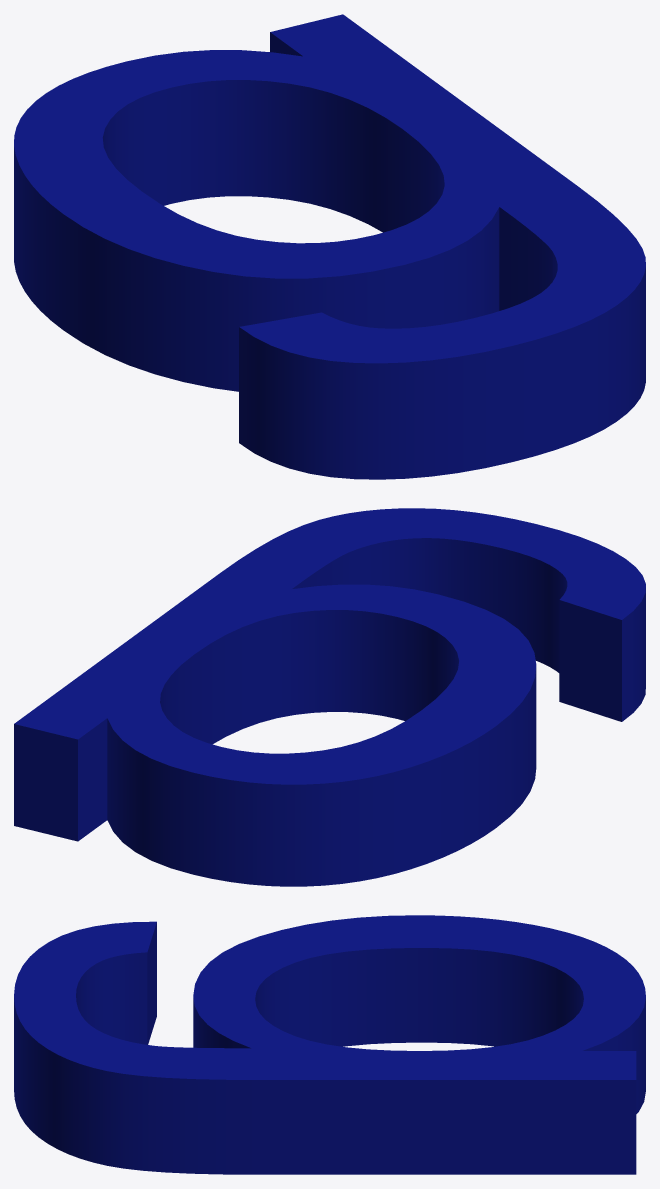
The picture shows the model from 3 angles, top to bottom: view 1: azimuth 30°, elevation 25°; view 2: azimuth 150°, elevation 25°; view 3: azimuth 270°, elevation 25°; orthographic projection. The views are drawn at different scales.
Visible parts, largest first — view 1: TextPlus033; view 2: TextPlus033; view 3: TextPlus033.
Boxes of the visible parts, x1,y1,x2,y2 form: TextPlus033: (14, 14, 645, 479); TextPlus033: (14, 508, 645, 886); TextPlus033: (14, 915, 645, 1174).
Size of the model in its own units: 16.36 by 4.38 by 26.52.
